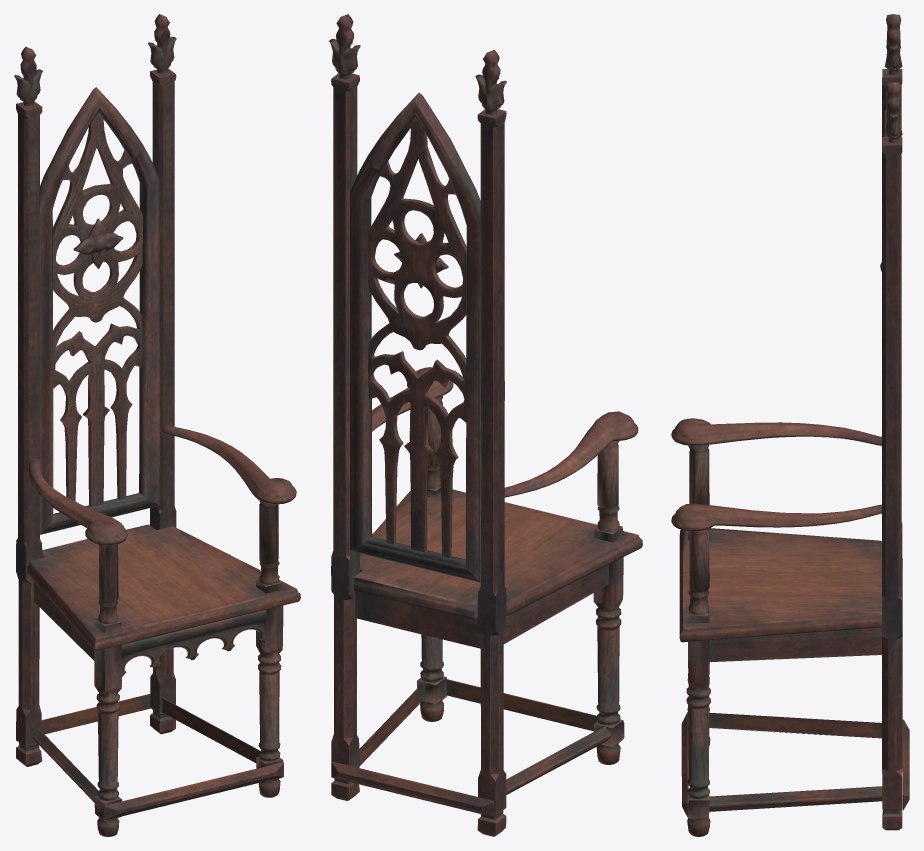
Rendered from distance.fbx.
The picture shows the model from 3 angles, left to right: view 1: azimuth 30°, elevation 25°; view 2: azimuth 150°, elevation 25°; view 3: azimuth 270°, elevation 25°; orthographic projection. The views are drawn at different scales.
Parts seen in each view (by area): view 1: WoodenChair_01; view 2: WoodenChair_01; view 3: WoodenChair_01.
Part boxes in pixels (<box>): WoodenChair_01: <box>14,14,300,836</box>; WoodenChair_01: <box>329,14,642,836</box>; WoodenChair_01: <box>671,14,909,836</box>.
Size of the model in its own units: 68.82 by 227 by 65.85.
